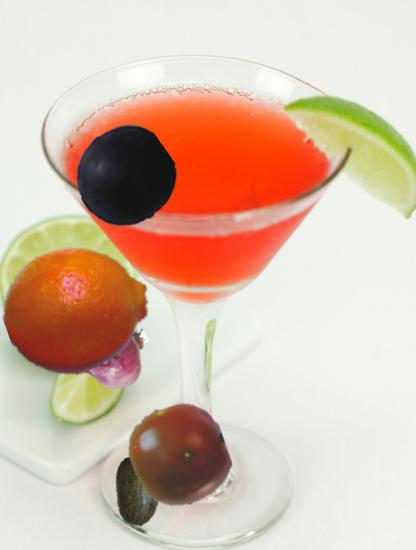Grape: (76, 128, 175, 227)
Melon: (102, 456, 173, 527)
Onion: (69, 314, 153, 398)
Tangelo: (4, 236, 150, 382)
Tomato: (128, 404, 231, 507)
